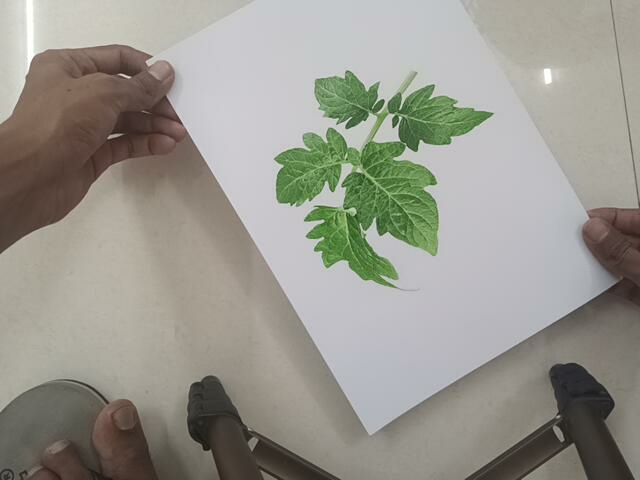Tomamto_Leaf_Healthy: (268, 56, 491, 299)
